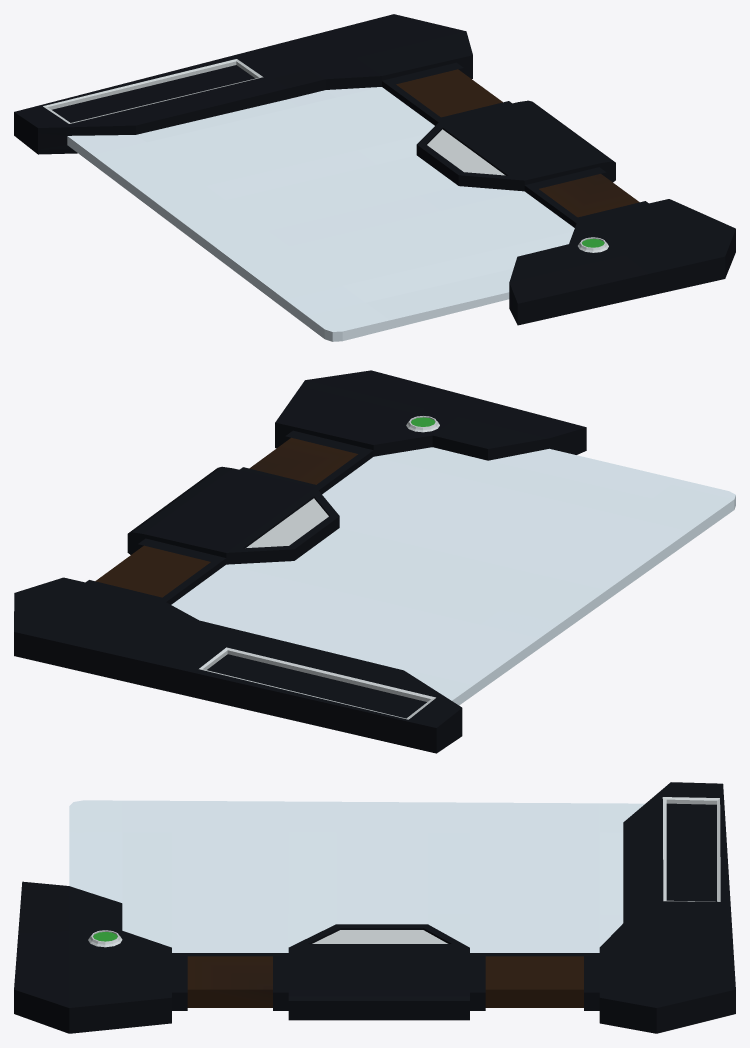
File: PainelDeControle.fbx
The picture shows the model from 3 angles, top to bottom: view 1: azimuth 30°, elevation 25°; view 2: azimuth 150°, elevation 25°; view 3: azimuth 270°, elevation 25°; orthographic projection. The views are drawn at different scales.
Parts seen in each view (by area): view 1: PainelDeControle; view 2: PainelDeControle; view 3: PainelDeControle.
Boxes of the visible parts, x1,y1,x2,y2 form: PainelDeControle: [14, 14, 735, 341]; PainelDeControle: [14, 370, 735, 753]; PainelDeControle: [14, 782, 735, 1033].
Bounding box in the file's own units: 35.23 × 2.35 × 47.9.
